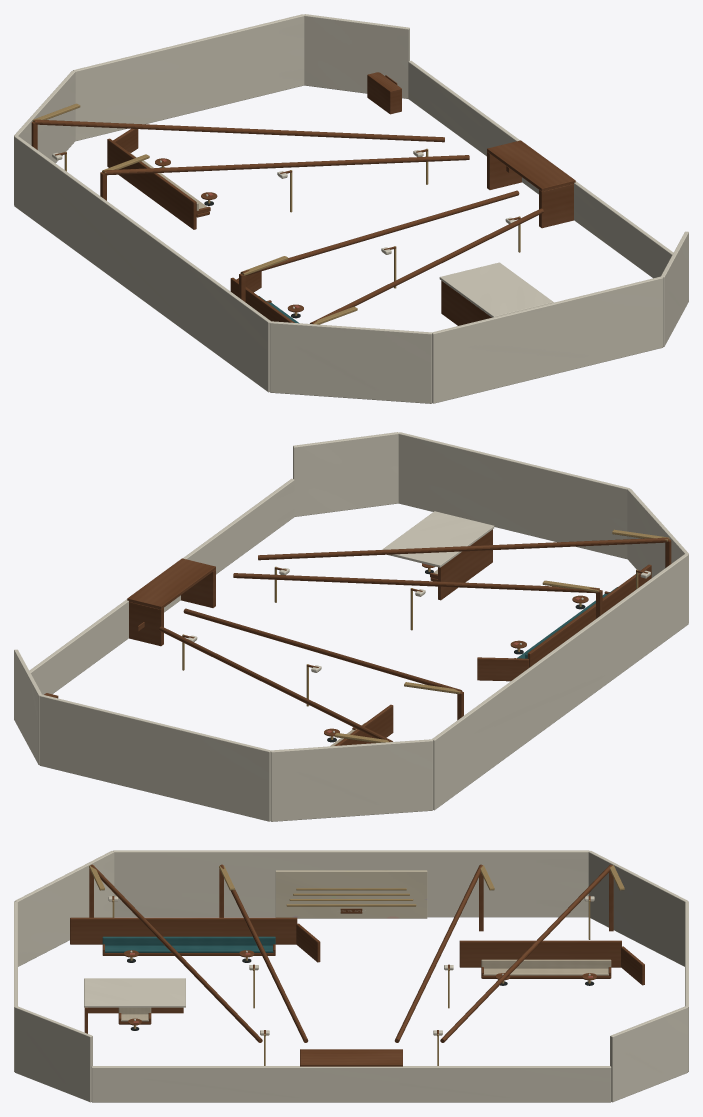
The model's file is SOL_D08_directory_09_source001.glb.
3 views of the same model, one above another, from view 1: azimuth 30°, elevation 25°; view 2: azimuth 150°, elevation 25°; view 3: azimuth 270°, elevation 25° (orthographic). The views are drawn at different scales.
Visible parts, largest first — view 1: D08_directory_09__folded_enclosure_3, D08_directory_09__folded_enclosure_5, D08_directory_09__folded_enclosure_1, D08_directory_09__folded_enclosure_4, D08_directory_09__folded_enclosure_0, D08_directory_09__arrival_return_north, D08_directory_09__arrival_return_south, D08_directory_09__quiet_recess_lid, D08_directory_09__folded_enclosure_2, D08_directory_09__rest_privacy_spine0, D08_directory_09__raked_roof_rib0, D08_directory_09__threshold_crown (+9 smaller); view 2: D08_directory_09__folded_enclosure_3, D08_directory_09__folded_enclosure_1, D08_directory_09__folded_enclosure_5, D08_directory_09__folded_enclosure_2, D08_directory_09__folded_enclosure_6, D08_directory_09__arrival_return_north, D08_directory_09__arrival_return_south, D08_directory_09__quiet_recess_lid, D08_directory_09__folded_enclosure_4, D08_directory_09__raked_roof_rib3, D08_directory_09__threshold_crown, D08_directory_09__folded_enclosure_0 (+9 smaller); view 3: D08_directory_09__folded_enclosure_3, D08_directory_09__arrival_return_south, D08_directory_09__arrival_return_north, D08_directory_09__view_connection_receiving_panel, D08_directory_09__folded_enclosure_2, D08_directory_09__folded_enclosure_4, D08_directory_09__folded_enclosure_0, D08_directory_09__folded_enclosure_6, D08_directory_09__rest_privacy_spine1, D08_directory_09__rest_privacy_spine0, D08_directory_09__quiet_recess_lid, D08_directory_09__threshold_crown (+15 smaller).
Part boxes in pixels (left/top/right/bottom): D08_directory_09__folded_enclosure_3: left=14, top=135, right=270, bottom=392; D08_directory_09__folded_enclosure_5: left=432, top=276, right=663, bottom=403; D08_directory_09__folded_enclosure_1: left=73, top=14, right=304, bottom=140; D08_directory_09__folded_enclosure_4: left=269, top=321, right=432, bottom=403; D08_directory_09__folded_enclosure_0: left=304, top=14, right=409, bottom=98; D08_directory_09__arrival_return_north: left=408, top=60, right=538, bottom=194; D08_directory_09__arrival_return_south: left=574, top=181, right=673, bottom=278; D08_directory_09__quiet_recess_lid: left=439, top=262, right=553, bottom=317; D08_directory_09__folded_enclosure_2: left=14, top=70, right=75, bottom=204; D08_directory_09__rest_privacy_spine0: left=107, top=138, right=196, bottom=229; D08_directory_09__raked_roof_rib0: left=34, top=119, right=444, bottom=142; D08_directory_09__threshold_crown: left=487, top=140, right=575, bottom=191; D08_directory_09__folded_enclosure_3: left=432, top=553, right=688, bottom=810; D08_directory_09__folded_enclosure_1: left=39, top=694, right=270, bottom=821; D08_directory_09__folded_enclosure_5: left=398, top=432, right=629, bottom=558; D08_directory_09__folded_enclosure_2: left=270, top=739, right=433, bottom=821; D08_directory_09__folded_enclosure_6: left=293, top=432, right=398, bottom=516; D08_directory_09__arrival_return_north: left=29, top=595, right=180, bottom=694; D08_directory_09__arrival_return_south: left=183, top=478, right=294, bottom=574; D08_directory_09__quiet_recess_lid: left=382, top=511, right=494, bottom=567; D08_directory_09__folded_enclosure_4: left=627, top=488, right=688, bottom=622; D08_directory_09__raked_roof_rib3: left=258, top=537, right=668, bottom=560; D08_directory_09__threshold_crown: left=127, top=558, right=215, bottom=609; D08_directory_09__folded_enclosure_0: left=14, top=649, right=41, bottom=764; D08_directory_09__folded_enclosure_3: left=113, top=850, right=589, bottom=917; D08_directory_09__arrival_return_south: left=91, top=1066, right=399, bottom=1102; D08_directory_09__arrival_return_north: left=303, top=1066, right=611, bottom=1102; D08_directory_09__view_connection_receiving_panel: left=275, top=870, right=427, bottom=918; D08_directory_09__folded_enclosure_2: left=588, top=851, right=688, bottom=966; D08_directory_09__folded_enclosure_4: left=14, top=851, right=114, bottom=966; D08_directory_09__folded_enclosure_0: left=610, top=1006, right=688, bottom=1102; D08_directory_09__folded_enclosure_6: left=14, top=1006, right=92, bottom=1102; D08_directory_09__rest_privacy_spine1: left=70, top=917, right=297, bottom=944; D08_directory_09__rest_privacy_spine0: left=459, top=940, right=621, bottom=967; D08_directory_09__quiet_recess_lid: left=84, top=978, right=185, bottom=1007; D08_directory_09__threshold_crown: left=300, top=1049, right=402, bottom=1066.
Size of the model in its own units: 40.86 by 6.72 by 62.36.
8 materials, 8 textured.
